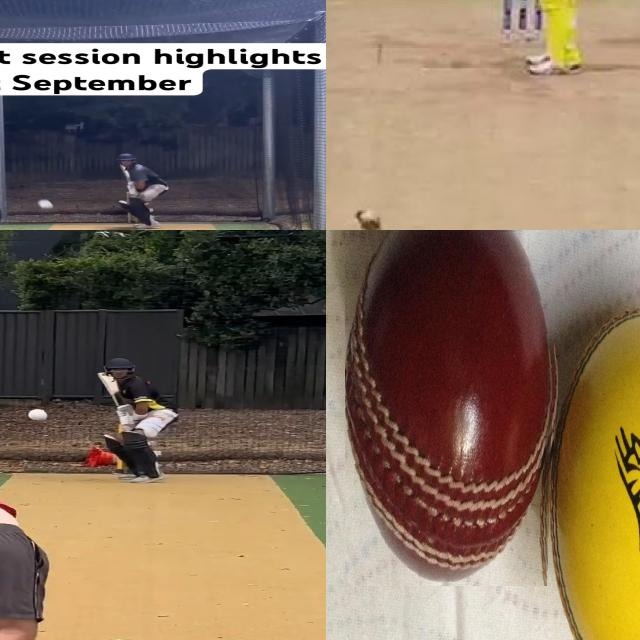Cricket ball: (345, 230, 559, 586), (550, 292, 640, 640), (358, 207, 382, 224), (27, 408, 49, 421), (37, 198, 51, 210)
